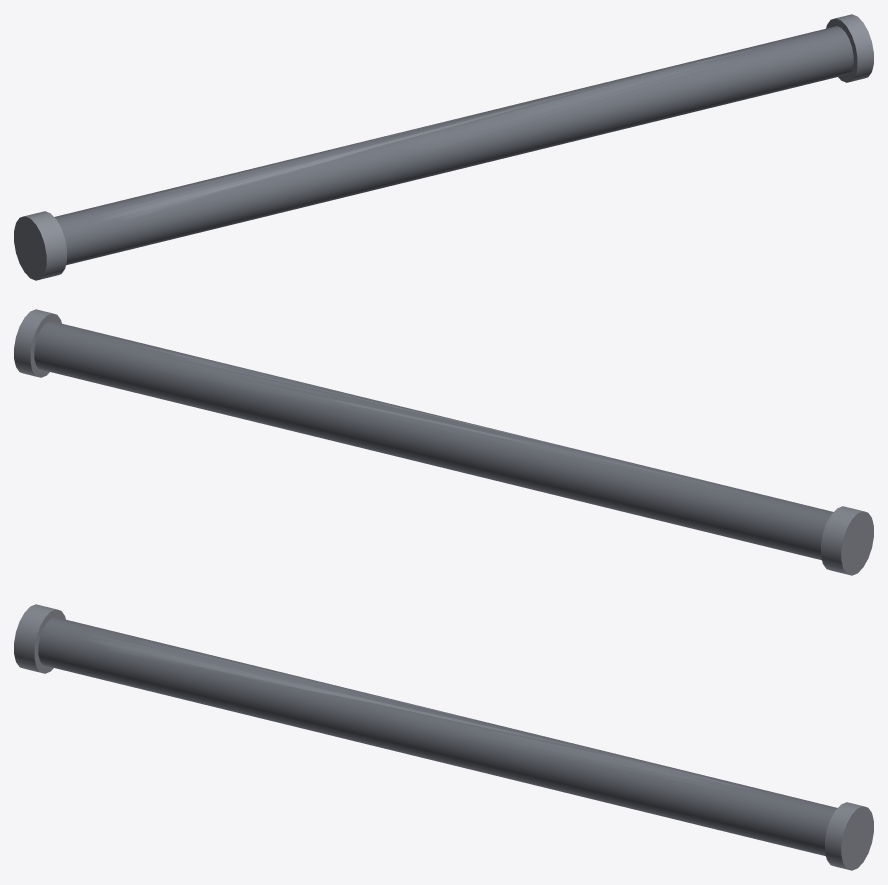
File: m_gutter_long.FBX
The picture shows the model from 3 angles, top to bottom: view 1: azimuth 30°, elevation 25°; view 2: azimuth 150°, elevation 25°; view 3: azimuth 330°, elevation 25°; orthographic projection.
Parts seen in each view (by area): view 1: gutter_straight; view 2: gutter_straight; view 3: gutter_straight.
Part boxes in pixels (x1,y1,x2,y2): gutter_straight: (14,14,873,280); gutter_straight: (14,309,873,575); gutter_straight: (14,604,873,870).
Size of the model in its own units: 95 by 6.58 by 6.48.
